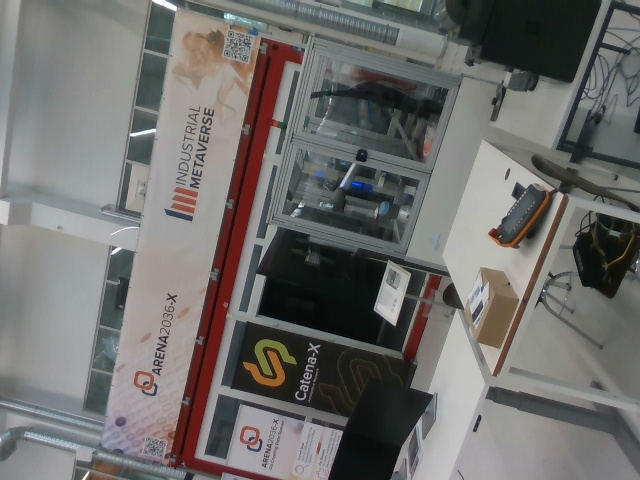Robot arm: (328, 164, 412, 225)
